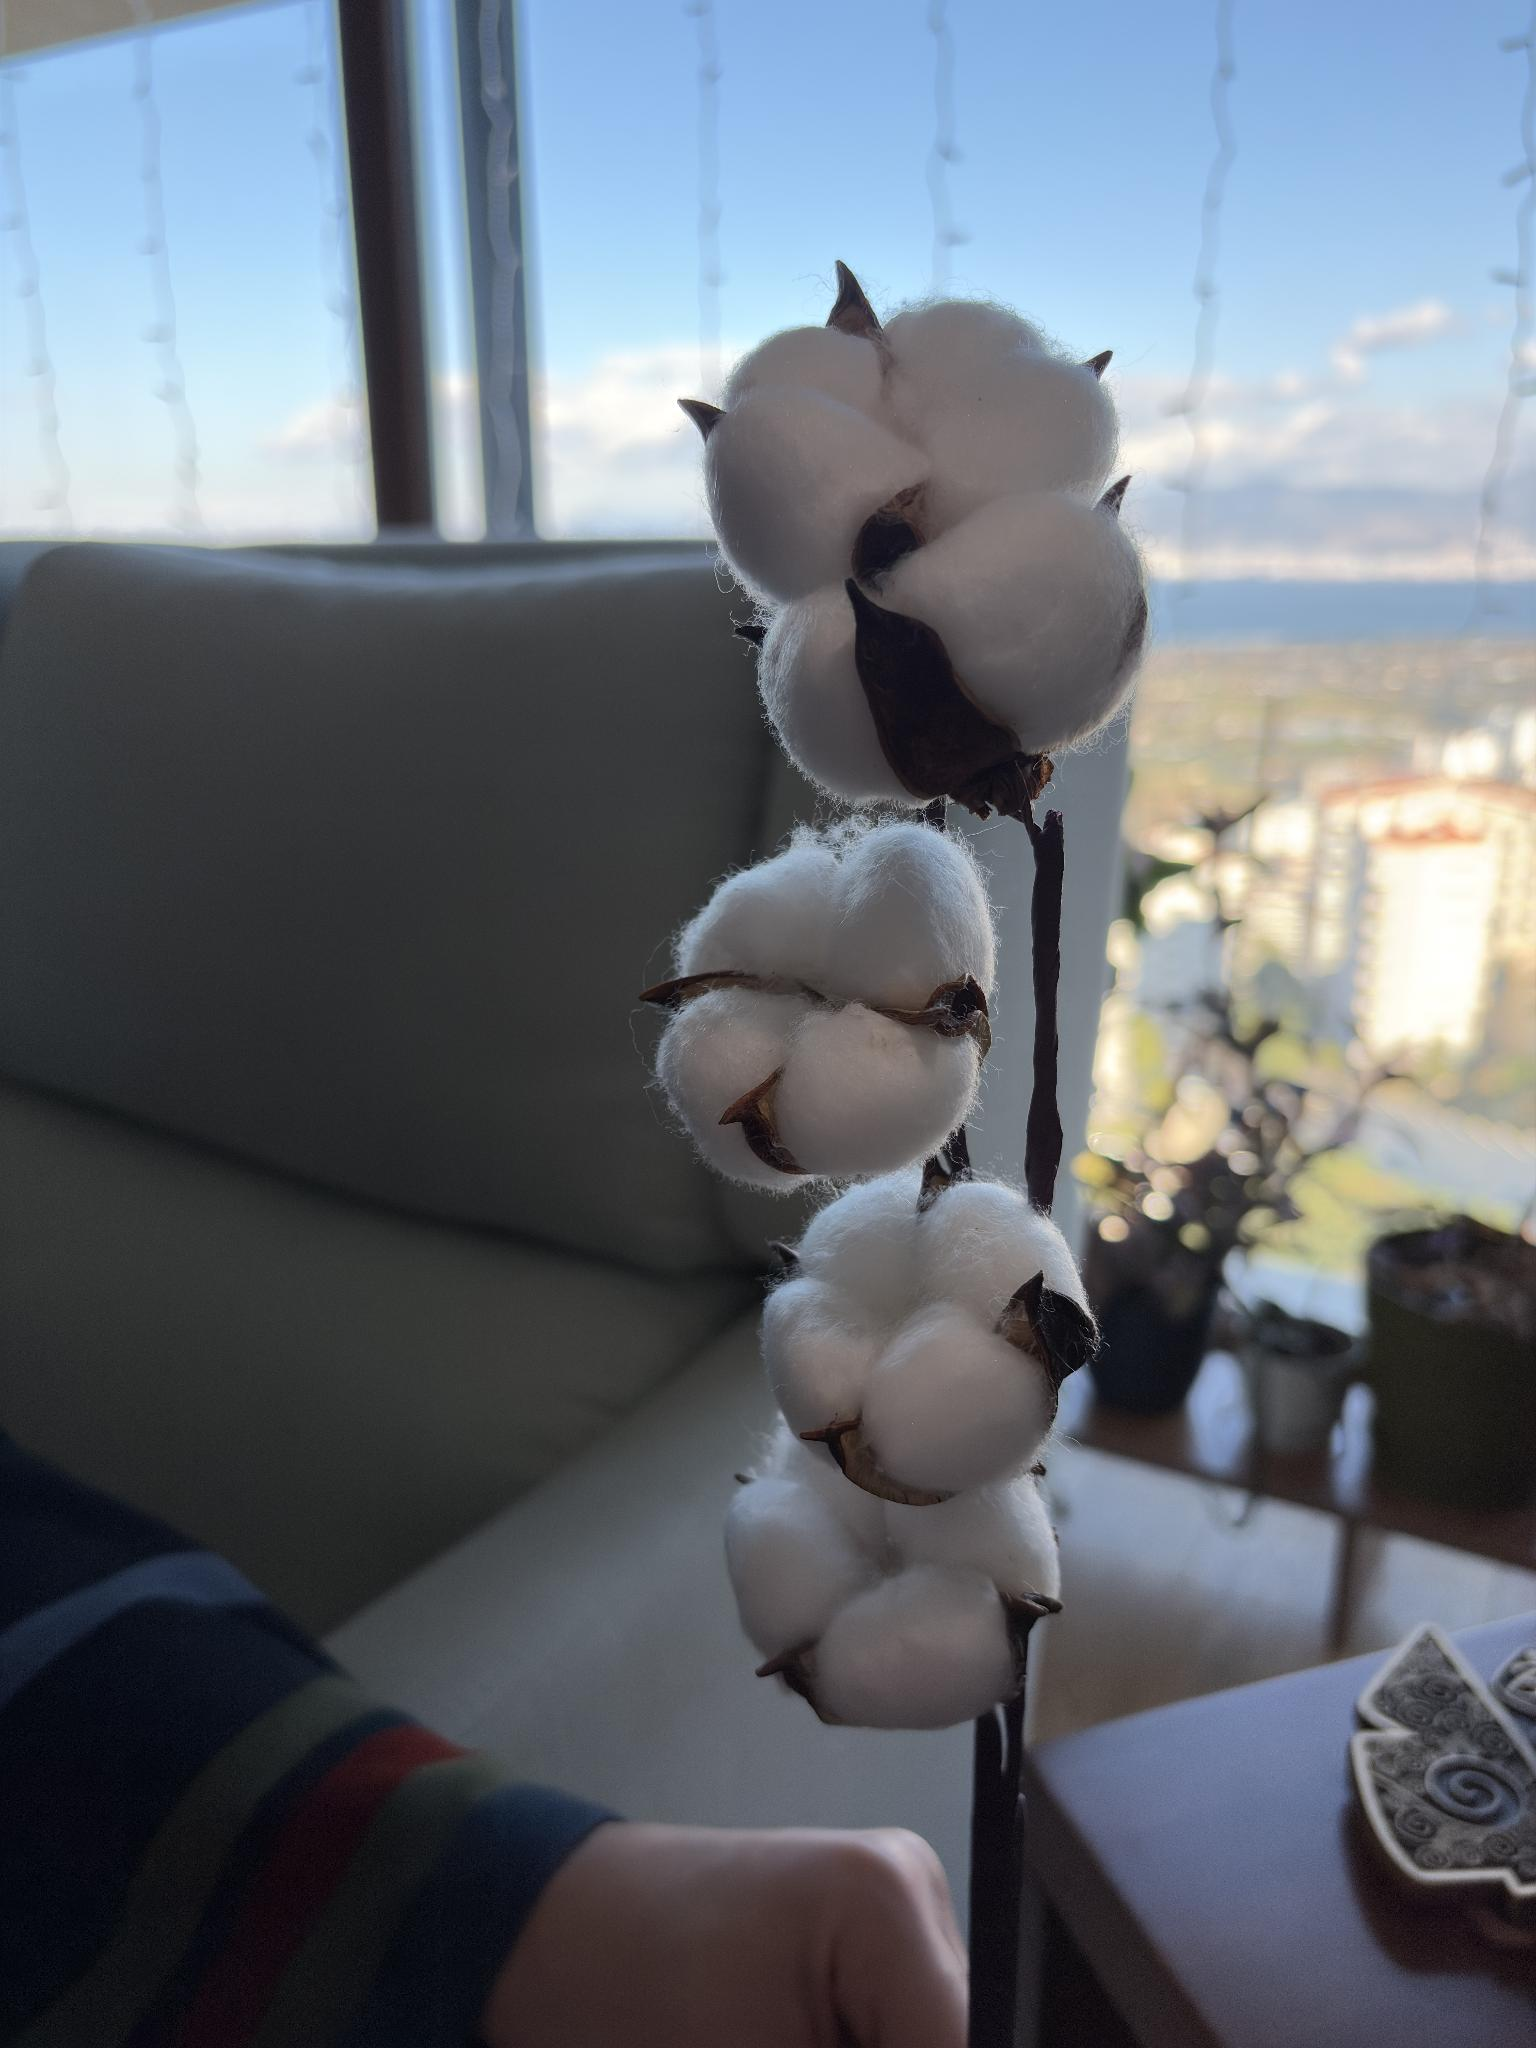cotton_boll: (879, 492, 1147, 751), (702, 382, 928, 601), (860, 1305, 1054, 1495), (920, 350, 1118, 531), (774, 1005, 976, 1177), (808, 1564, 1015, 1730), (757, 585, 905, 801), (828, 826, 992, 1008), (658, 990, 803, 1188), (724, 1474, 876, 1658), (673, 832, 845, 993), (920, 1182, 1086, 1329), (883, 1472, 1060, 1598), (742, 1419, 887, 1558), (795, 1172, 921, 1324), (763, 1280, 883, 1435), (884, 300, 1057, 403), (726, 327, 881, 411)
cotton_boll-cluster: (694, 285, 1163, 813), (650, 816, 991, 1201), (720, 1392, 1073, 1742), (755, 1174, 1110, 1508)
